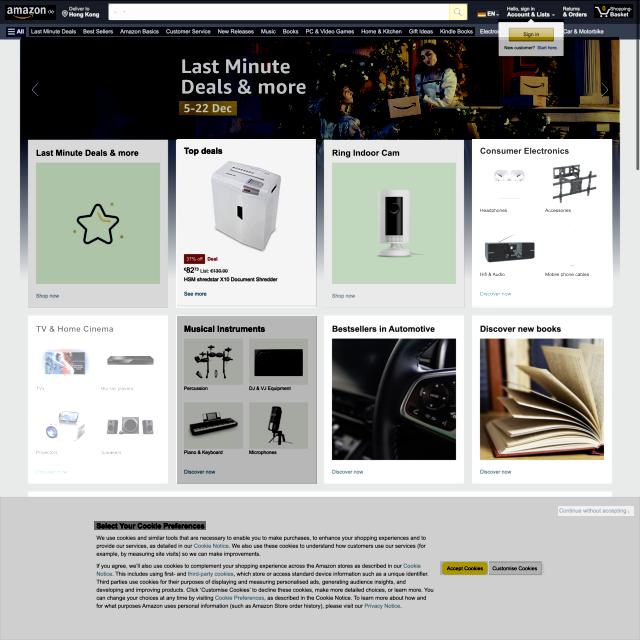CheckBox: (489, 561, 544, 575), (558, 506, 634, 516), (509, 27, 554, 42), (440, 561, 488, 575), (594, 4, 633, 18), (450, 4, 467, 20)
CheckedTextView: (108, 3, 468, 20)
Spinner: (324, 139, 465, 308), (472, 140, 613, 308), (28, 140, 168, 308), (177, 140, 317, 308), (177, 316, 317, 484), (28, 316, 167, 483)
Switch: (21, 37, 619, 140)
alert: (109, 4, 130, 20), (477, 10, 499, 18)
bag: (0, 1, 640, 40)
breadcrumbs: (94, 521, 206, 530)
carousel: (453, 7, 463, 17)
date picker: (5, 5, 56, 20)
decoration: (29, 27, 475, 36), (6, 27, 26, 37)
header: (0, 497, 640, 640)
label: (498, 19, 564, 57)
